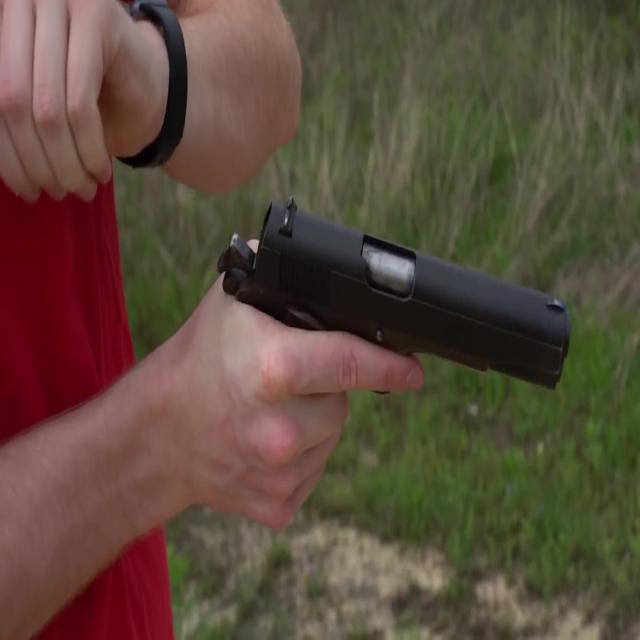Weapon: (162, 122, 620, 515)
